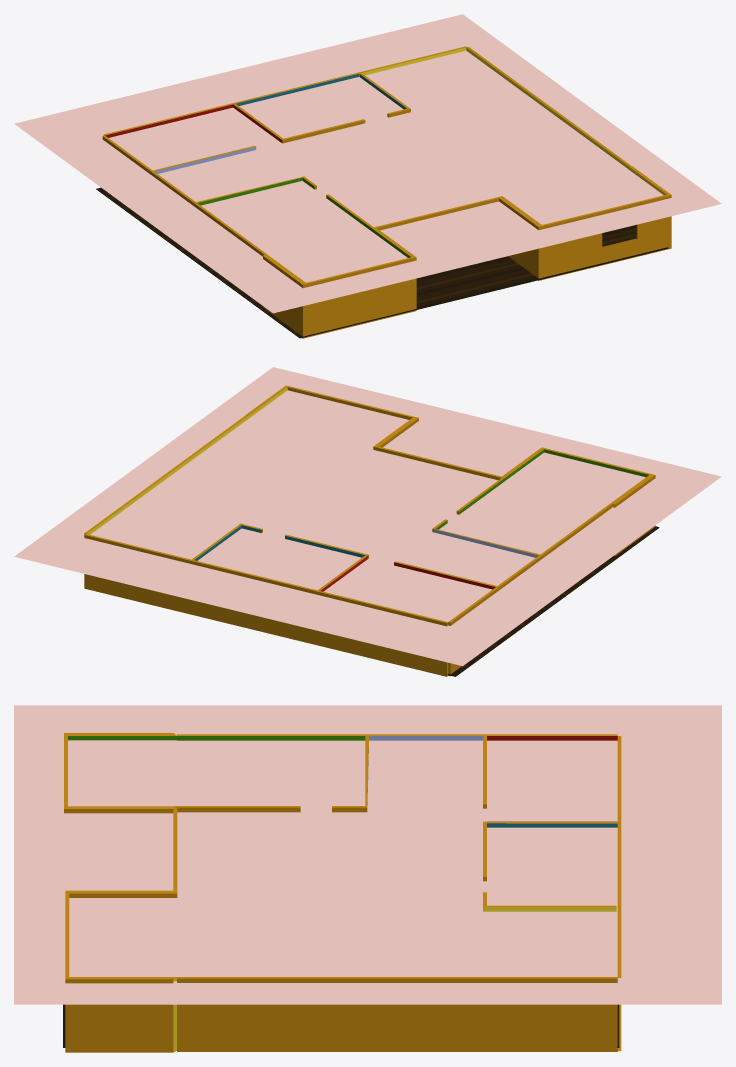
Rendered from ArquitectureHome2.fbx.
3 views of the same model, one above another, from view 1: azimuth 30°, elevation 25°; view 2: azimuth 150°, elevation 25°; view 3: azimuth 270°, elevation 25° (orthographic). The views are drawn at different scales.
Parts seen in each view (by area): view 1: Plane, Cube_000, Cube_010; view 2: Plane, Cube_000, Cube_010; view 3: Plane, Cube_000, Cube_054.
Boxes of the visible parts, <box> form: Plane: <box>14,14,721,313</box>; Cube_000: <box>102,46,671,338</box>; Cube_010: <box>96,187,668,338</box>; Plane: <box>14,367,721,666</box>; Cube_000: <box>84,385,655,676</box>; Cube_010: <box>447,526,659,676</box>; Plane: <box>14,705,721,1004</box>; Cube_000: <box>64,733,621,1052</box>; Cube_054: <box>487,821,617,827</box>.
Size of the model in its own units: 157 by 18.09 by 157.
